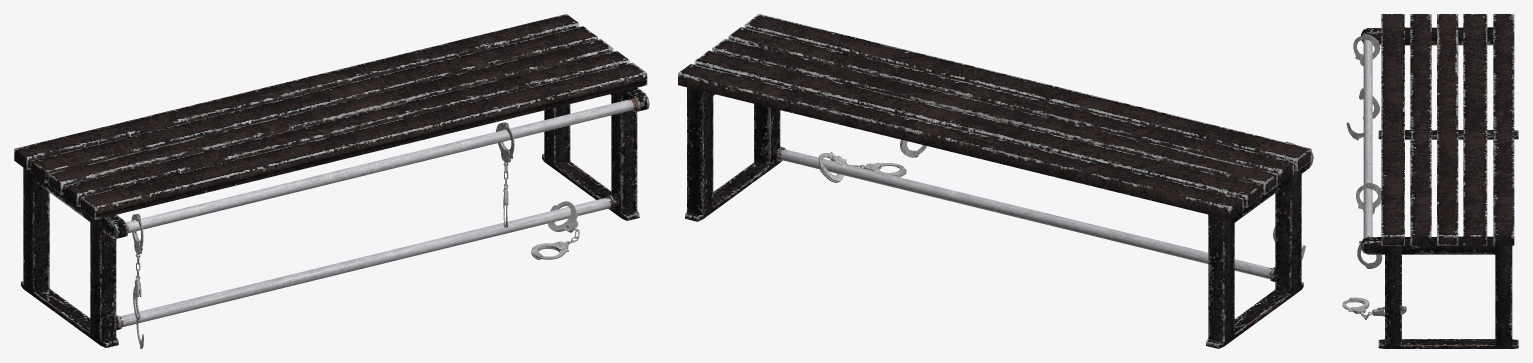
File: 004_ChairHandCuffs.fbx
The picture shows the model from 3 angles, left to right: view 1: azimuth 30°, elevation 25°; view 2: azimuth 150°, elevation 25°; view 3: azimuth 270°, elevation 25°; orthographic projection. The views are drawn at different scales.
Parts seen in each view (by area): view 1: LOD_1_Group_1_Sub_1__sm30_044_ChairHandcuffs01A_A_Mat, LOD_1_Group_4_Sub_1__sm30_044_ChairHandcuffs01A_A_Mat, LOD_1_Group_2_Sub_1__sm30_044_ChairHandcuffs01A_A_Mat, LOD_1_Group_3_Sub_1__sm30_044_ChairHandcuffs01A_A_Mat, LOD_1_Group_6_Sub_1__sm30_044_ChairHandcuffs01A_A_Mat, LOD_1_Group_0_Sub_1__sm30_044_ChairHandcuffs01A_A_Mat, LOD_1_Group_5_Sub_1__sm30_044_ChairHandcuffs01A_A_Mat; view 2: LOD_1_Group_1_Sub_1__sm30_044_ChairHandcuffs01A_A_Mat, LOD_1_Group_4_Sub_1__sm30_044_ChairHandcuffs01A_A_Mat, LOD_1_Group_2_Sub_1__sm30_044_ChairHandcuffs01A_A_Mat, LOD_1_Group_3_Sub_1__sm30_044_ChairHandcuffs01A_A_Mat, LOD_1_Group_6_Sub_1__sm30_044_ChairHandcuffs01A_A_Mat; view 3: LOD_1_Group_1_Sub_1__sm30_044_ChairHandcuffs01A_A_Mat, LOD_1_Group_3_Sub_1__sm30_044_ChairHandcuffs01A_A_Mat, LOD_1_Group_4_Sub_1__sm30_044_ChairHandcuffs01A_A_Mat, LOD_1_Group_2_Sub_1__sm30_044_ChairHandcuffs01A_A_Mat, LOD_1_Group_0_Sub_1__sm30_044_ChairHandcuffs01A_A_Mat, LOD_1_Group_5_Sub_1__sm30_044_ChairHandcuffs01A_A_Mat, LOD_1_Group_6_Sub_1__sm30_044_ChairHandcuffs01A_A_Mat.
Part boxes in pixels (x1,y1,x2,y2): LOD_1_Group_1_Sub_1__sm30_044_ChairHandcuffs01A_A_Mat: (30,26,647,327); LOD_1_Group_4_Sub_1__sm30_044_ChairHandcuffs01A_A_Mat: (14,14,579,169); LOD_1_Group_2_Sub_1__sm30_044_ChairHandcuffs01A_A_Mat: (21,167,128,347); LOD_1_Group_3_Sub_1__sm30_044_ChairHandcuffs01A_A_Mat: (542,87,649,220); LOD_1_Group_6_Sub_1__sm30_044_ChairHandcuffs01A_A_Mat: (531,201,579,259); LOD_1_Group_0_Sub_1__sm30_044_ChairHandcuffs01A_A_Mat: (131,214,143,348); LOD_1_Group_5_Sub_1__sm30_044_ChairHandcuffs01A_A_Mat: (496,122,514,227); LOD_1_Group_1_Sub_1__sm30_044_ChairHandcuffs01A_A_Mat: (694,14,1311,279); LOD_1_Group_4_Sub_1__sm30_044_ChairHandcuffs01A_A_Mat: (678,64,1243,219); LOD_1_Group_2_Sub_1__sm30_044_ChairHandcuffs01A_A_Mat: (1206,152,1313,348); LOD_1_Group_3_Sub_1__sm30_044_ChairHandcuffs01A_A_Mat: (685,87,785,221); LOD_1_Group_6_Sub_1__sm30_044_ChairHandcuffs01A_A_Mat: (818,152,906,182); LOD_1_Group_1_Sub_1__sm30_044_ChairHandcuffs01A_A_Mat: (1363,14,1487,245); LOD_1_Group_3_Sub_1__sm30_044_ChairHandcuffs01A_A_Mat: (1361,236,1518,348); LOD_1_Group_4_Sub_1__sm30_044_ChairHandcuffs01A_A_Mat: (1493,14,1514,245); LOD_1_Group_2_Sub_1__sm30_044_ChairHandcuffs01A_A_Mat: (1361,27,1518,139); LOD_1_Group_0_Sub_1__sm30_044_ChairHandcuffs01A_A_Mat: (1346,34,1380,140); LOD_1_Group_5_Sub_1__sm30_044_ChairHandcuffs01A_A_Mat: (1356,182,1382,268); LOD_1_Group_6_Sub_1__sm30_044_ChairHandcuffs01A_A_Mat: (1342,297,1406,319).
Bounding box in the file's own units: 1.74 × 0.4261 × 0.5847.
